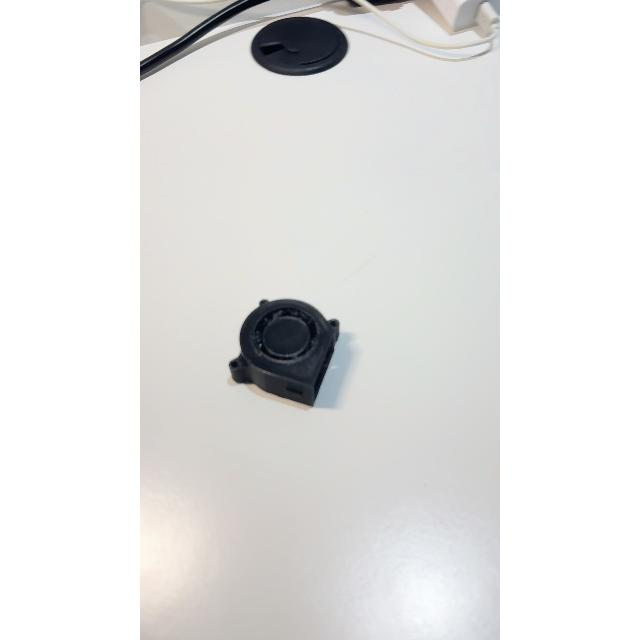Pieza_3: (217, 290, 349, 418)
